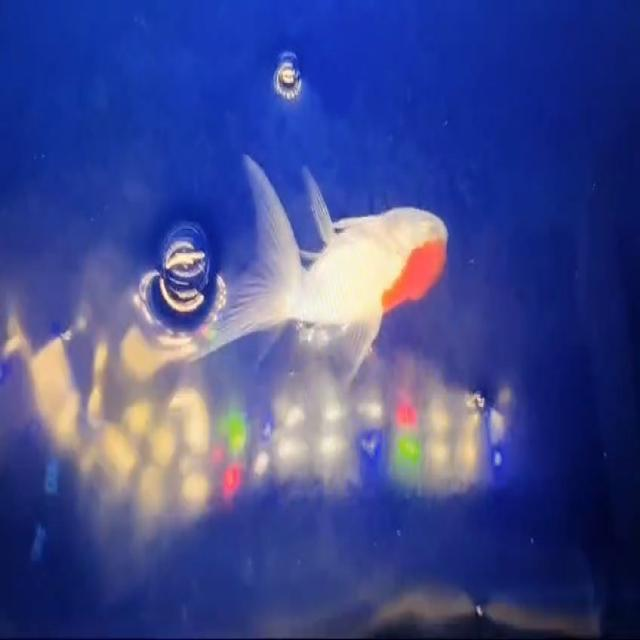fish: (195, 131, 451, 394)
